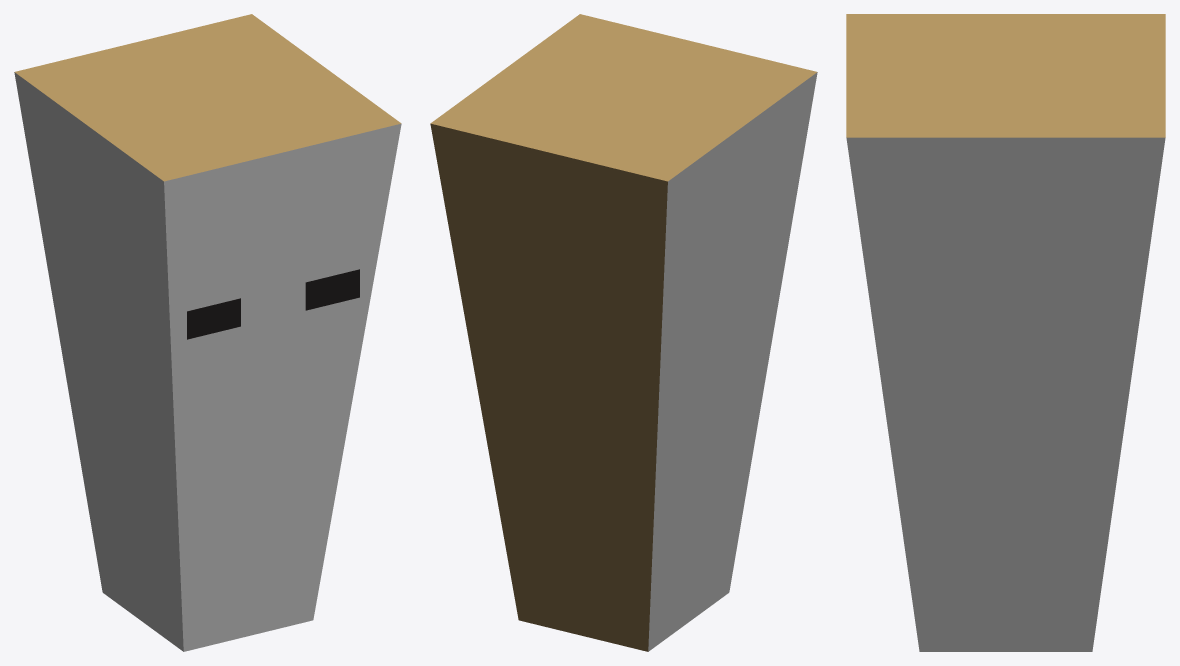
File: head_light.glb
The picture shows the model from 3 angles, left to right: view 1: azimuth 30°, elevation 25°; view 2: azimuth 150°, elevation 25°; view 3: azimuth 270°, elevation 25°; orthographic projection. The views are drawn at different scales.
Parts seen in each view (by area): view 1: head_light; view 2: head_light; view 3: head_light.
Part boxes in pixels (left/top/right/bottom): head_light: left=14, top=14, right=401, bottom=651; head_light: left=430, top=14, right=817, bottom=651; head_light: left=846, top=14, right=1165, bottom=651.
Size of the model in its own units: 0.22 by 0.45 by 0.24.
